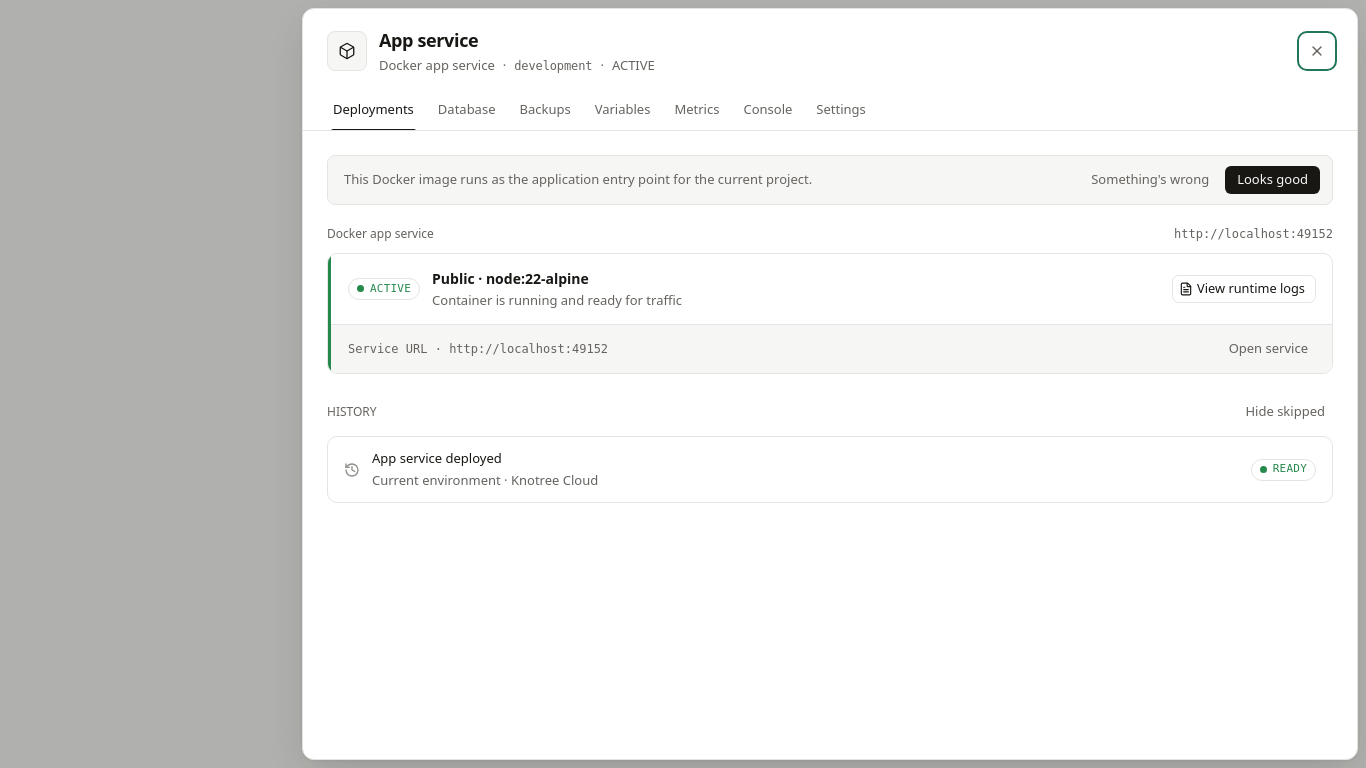
ResourceWorkspace database pane › loads runtime logs for the selected app service
Click the tab "Console".
click(768, 110)  # box [734,90,802,130]
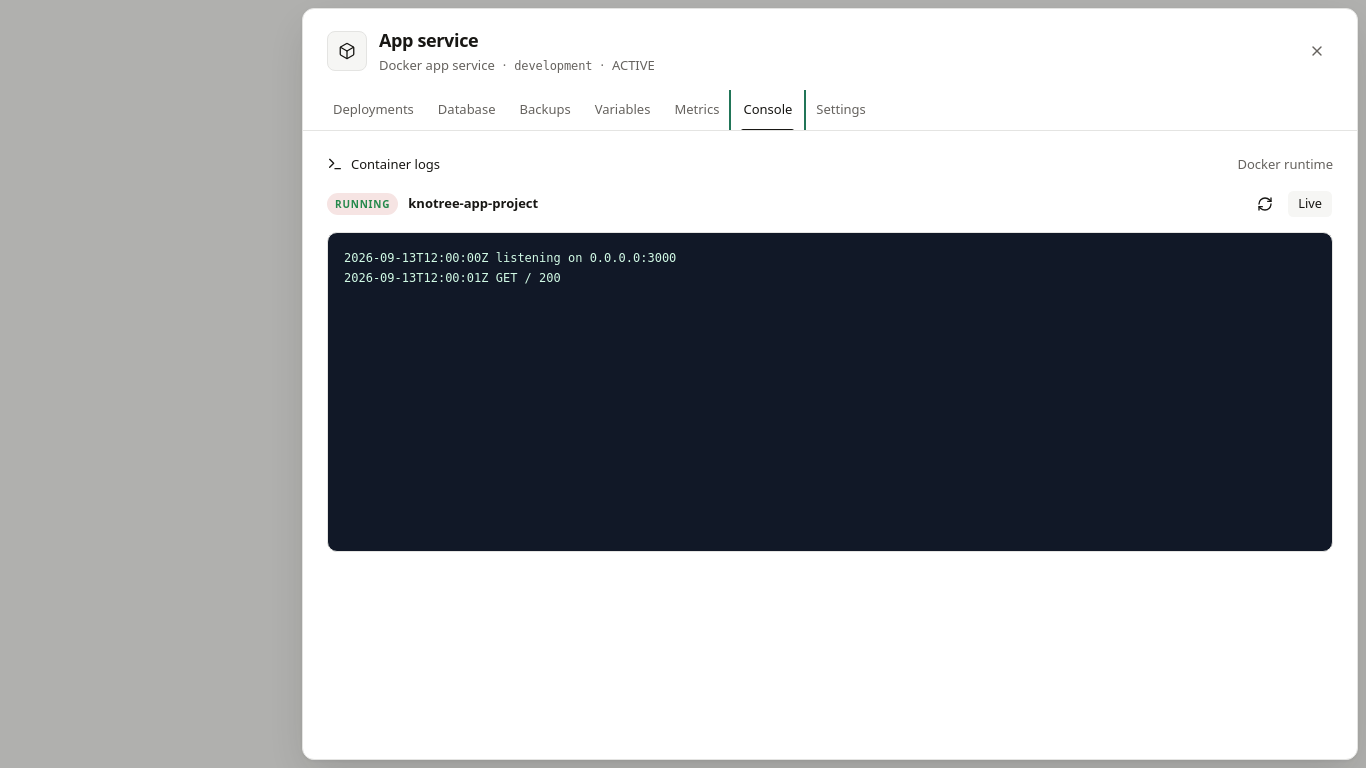
Result: the text "2026-09-13T12:00:01Z GET / 200" is shown at [344,251,676,285]
Result: the button named "Refresh app service logs" is shown at [1251,190,1279,218]
